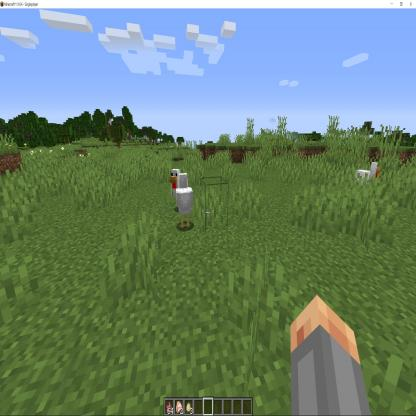minecraft-pigs: (354, 159, 380, 201), (176, 172, 192, 225), (171, 167, 188, 200)
